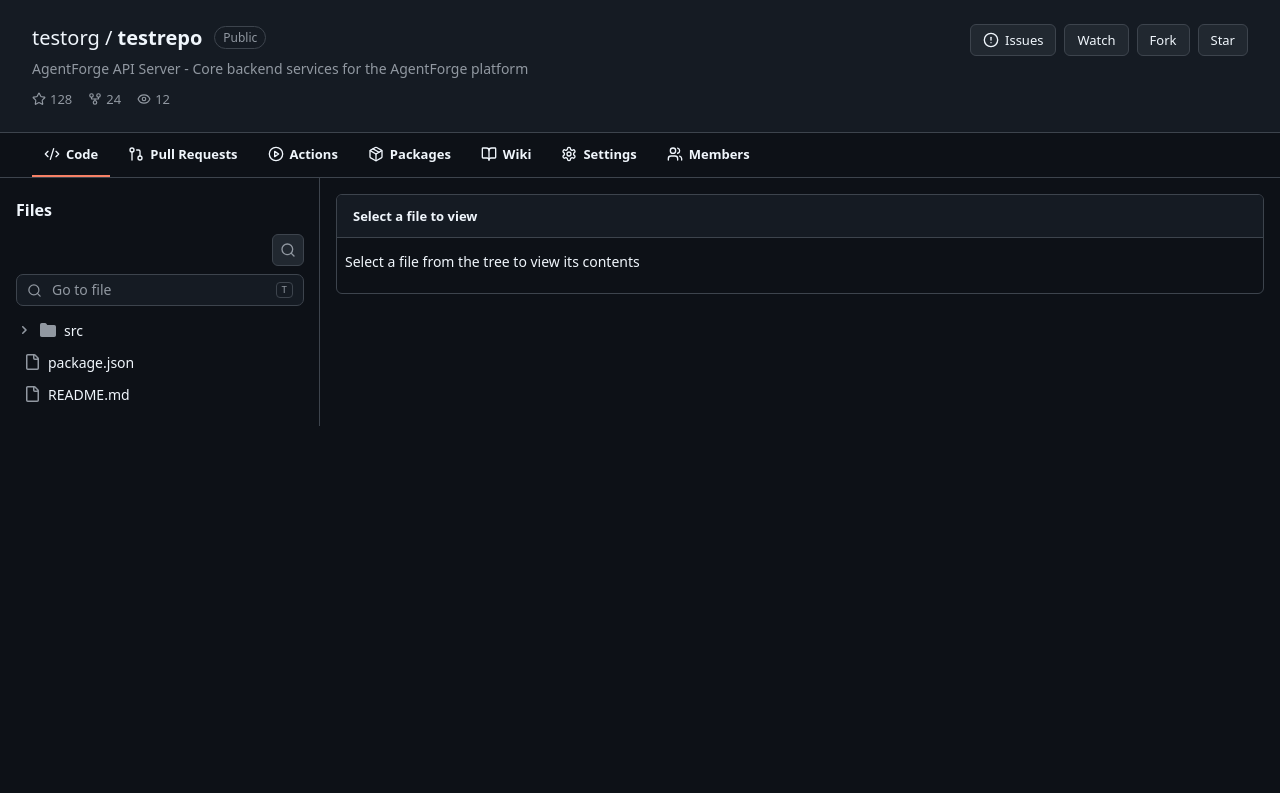
Scenario: RepositoryDetailPage - Pull Requests Tab › searches PRs by number
Click the tab "Pull Requests" at (183, 155), box [116,133,250,177]
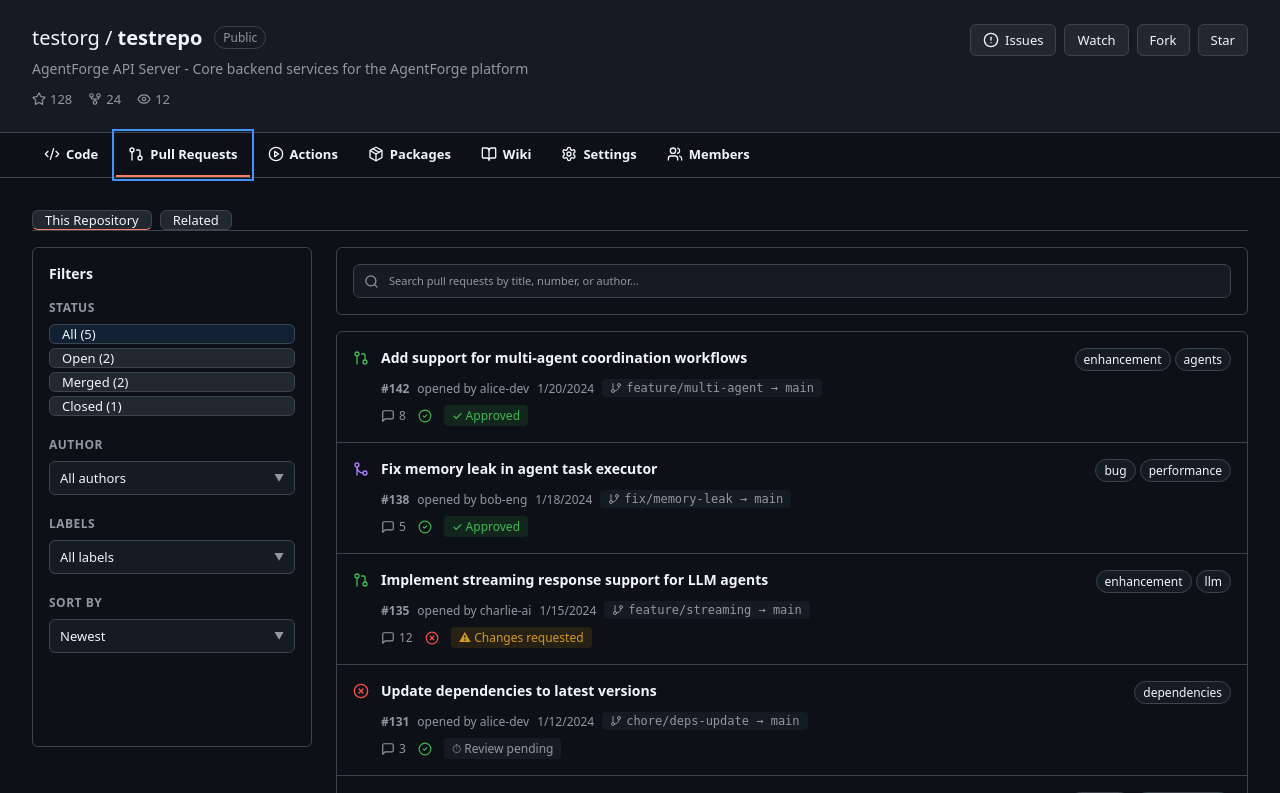
Expected: the field with placeholder "Search pull requests by title, number, or author..." is shown
Type "142" into the field with placeholder "Search pull requests by title, number, or author..." at (804, 281), box [387,271,1220,291]
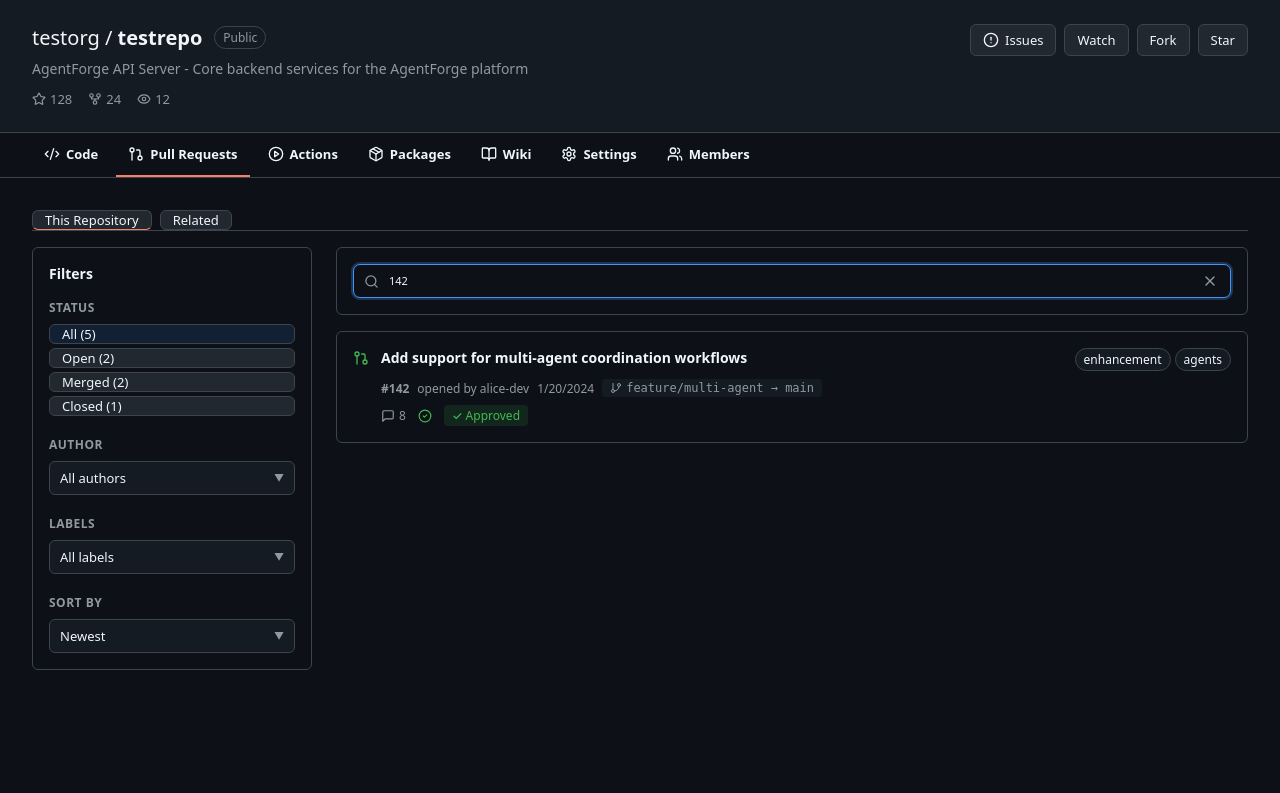
Expected: the heading "Add support for multi-agent coordination workflows" is shown, [381,348,747,367]
Expected: the heading "Fix memory leak in agent task executor" is gone
